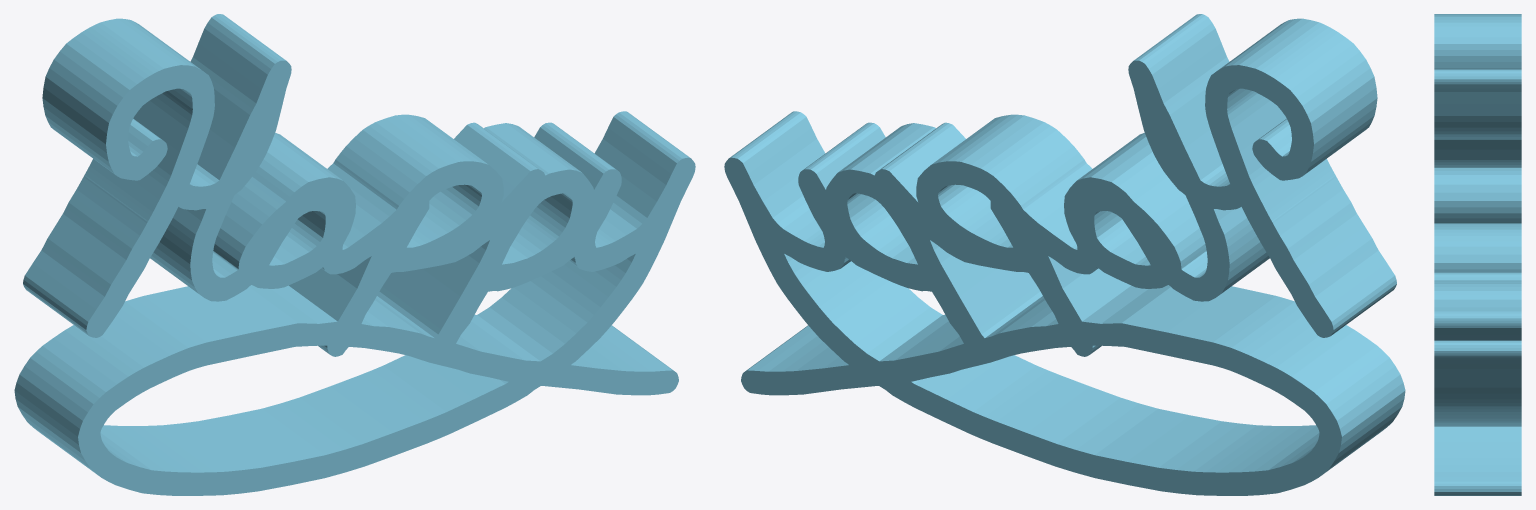
The model's file is tinker.obj.
3 views of the same model, side by side, from view 1: azimuth 30°, elevation 25°; view 2: azimuth 150°, elevation 25°; view 3: azimuth 270°, elevation 25° (orthographic). The views are drawn at different scales.
Parts seen in each view (by area): view 1: obj_0; view 2: obj_0; view 3: obj_0.
Boxes of the visible parts, x1,y1,x2,y2 form: obj_0: (14, 14, 695, 495); obj_0: (724, 14, 1405, 495); obj_0: (1434, 14, 1521, 495).
Size of the model in its own units: 56.12 by 38.97 by 10.
